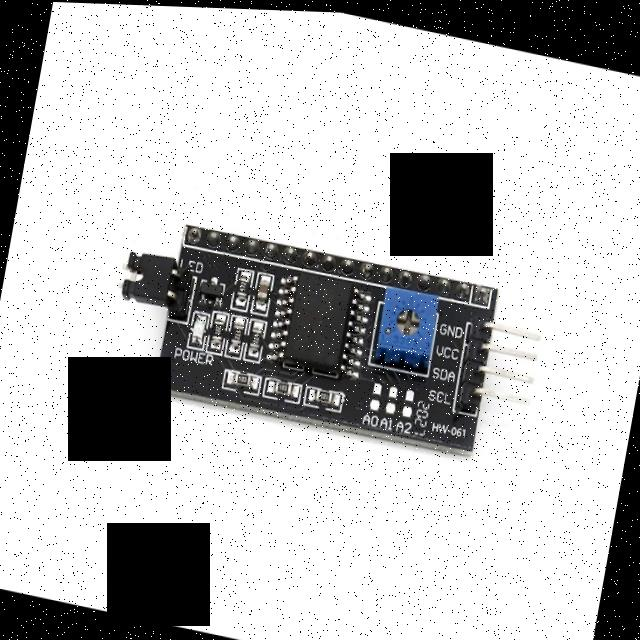4439: (194, 271, 224, 308)
IC: (268, 266, 374, 375)
LED: (188, 311, 208, 350)
capacitor 1V5: (252, 274, 271, 306)
connector -5v-: (453, 309, 551, 423), (106, 242, 197, 318)
potentiometer POT1: (370, 278, 440, 368)
resistor IR1: (224, 367, 254, 388), (245, 320, 262, 353), (234, 271, 251, 301), (310, 385, 336, 403), (270, 375, 292, 396), (208, 310, 224, 338), (230, 318, 243, 343)
